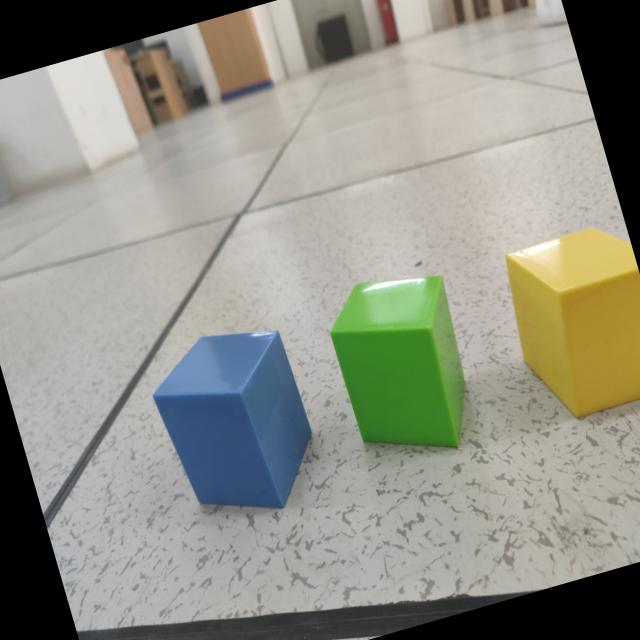blue: (152, 332, 312, 511)
green: (329, 276, 465, 450)
yellow: (506, 227, 640, 420)
